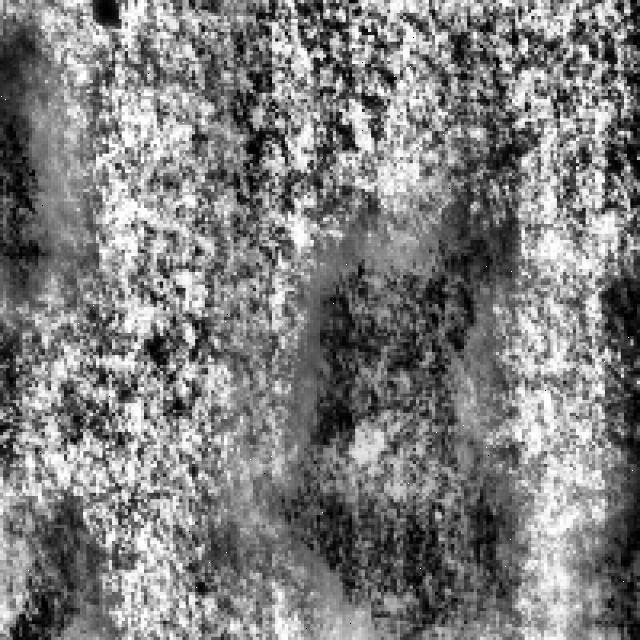Scratches: (304, 230, 502, 628), (6, 493, 116, 637), (3, 41, 58, 292), (573, 493, 640, 637)
